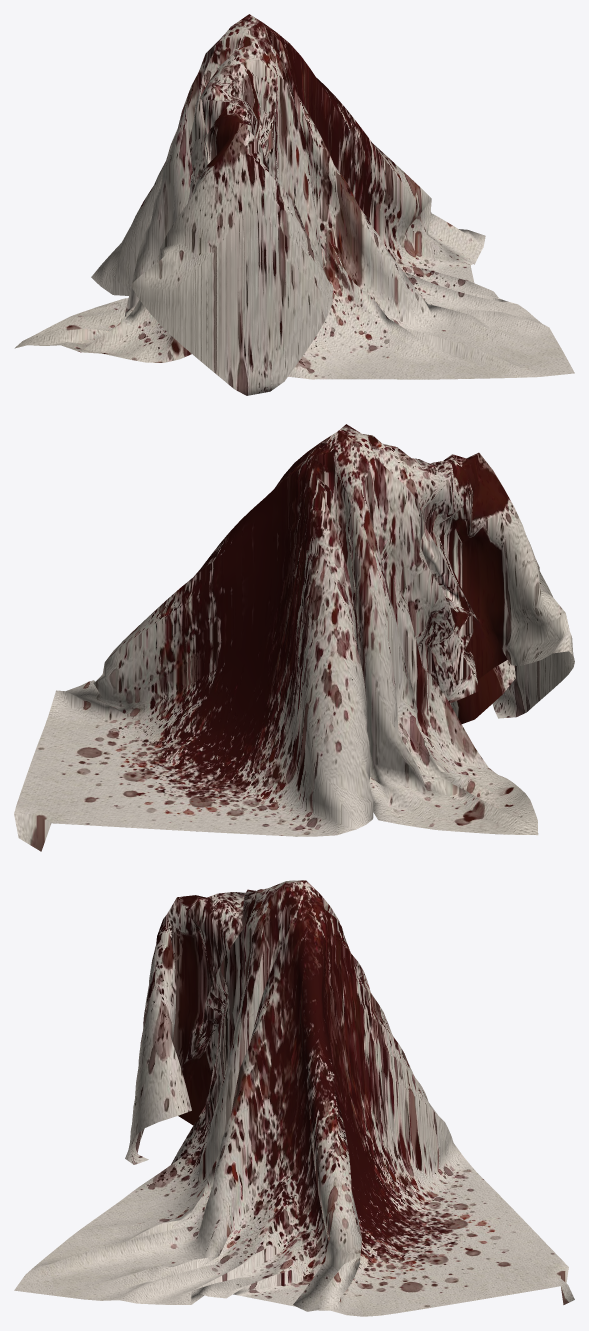
3 views of the same model, one above another, from view 1: azimuth 30°, elevation 25°; view 2: azimuth 150°, elevation 25°; view 3: azimuth 270°, elevation 25° (orthographic). The views are drawn at different scales.
Parts seen in each view (by area): view 1: Plane003; view 2: Plane003; view 3: Plane003.
Boxes of the visible parts, x1,y1,x2,y2 form: Plane003: [14, 14, 574, 395]; Plane003: [14, 424, 574, 851]; Plane003: [14, 880, 574, 1316].
Size of the model in its own units: 1.14 by 0.7964 by 1.16.
Materials: 1 (1 with a texture image).
